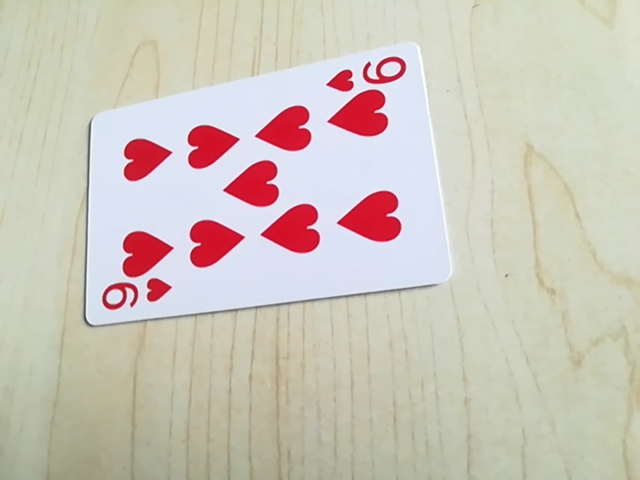hx 9: (323, 52, 410, 93), (97, 277, 174, 319)
